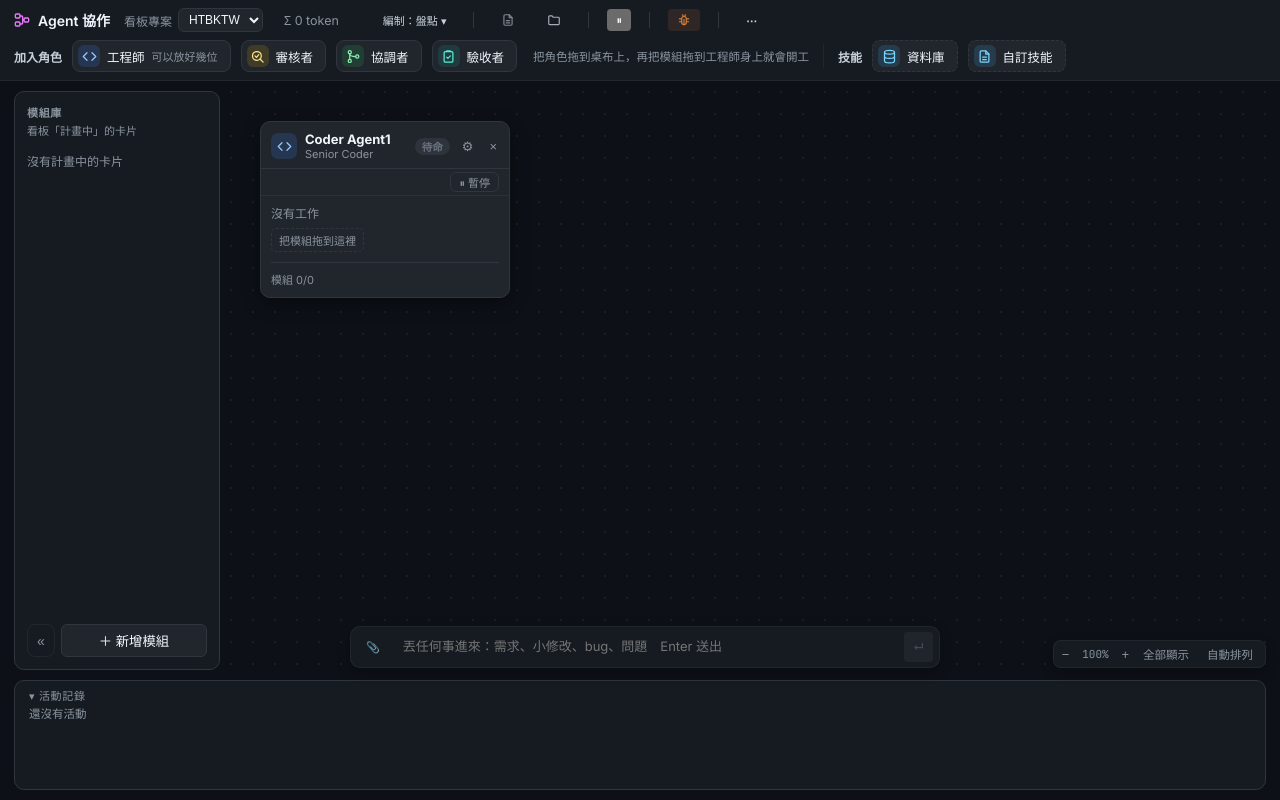
AgentCanvasView › 參考資料夾：頂列設定，存檔後資源區出現資料夾（全員唯讀）
Expected: the element with test id "agent-a1" is shown, [260,121,510,298]
Click the button with test id "ac-references" at (554, 20), box [538,9,570,31]
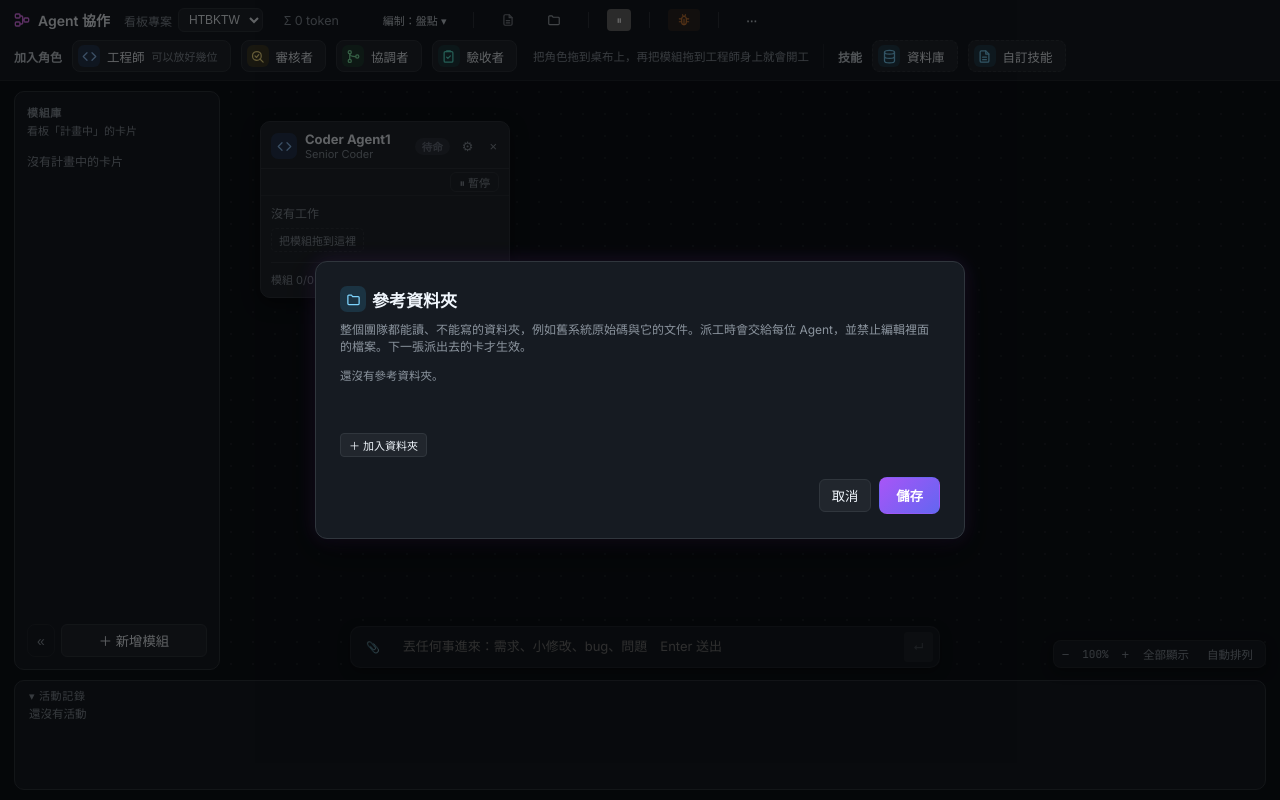
Click the button "＋ 加入資料夾" at (384, 445), box [340,433,427,457]
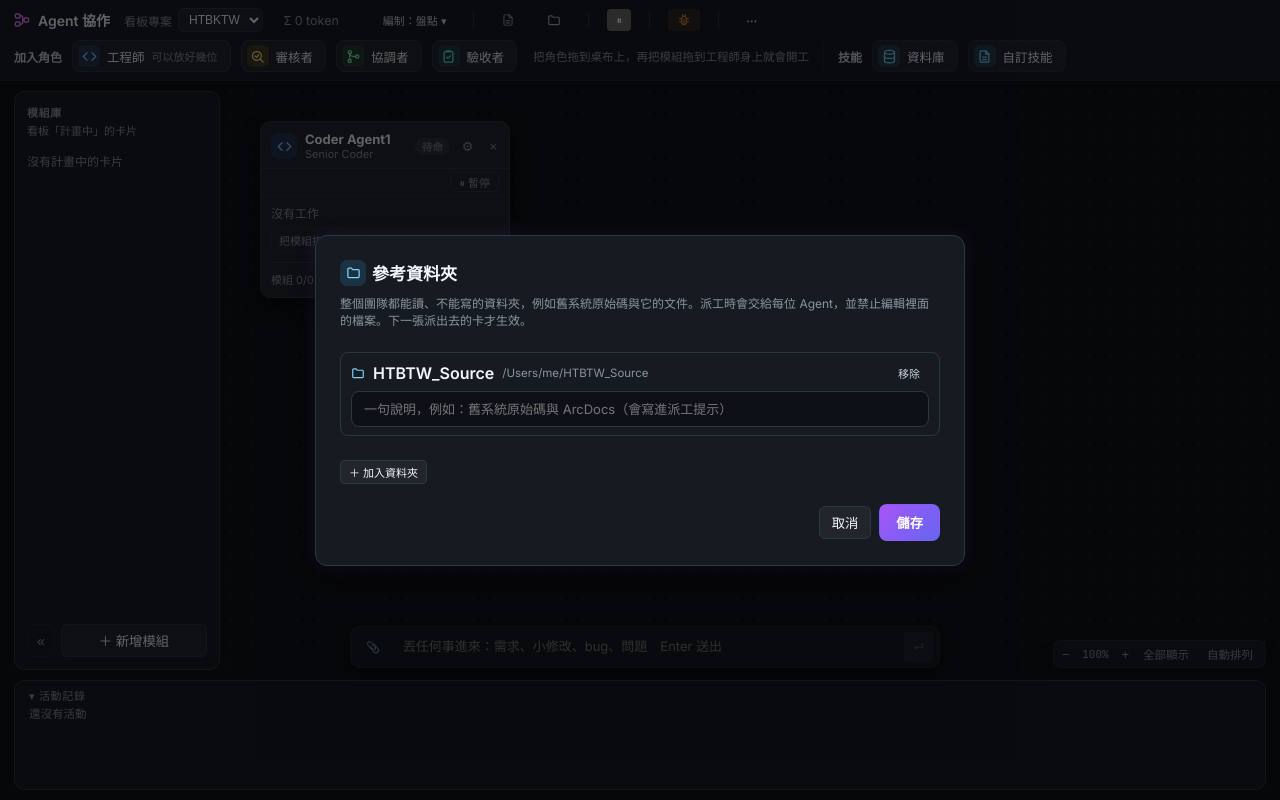
Type "舊系統原始碼與 ArcDocs" into the field named "HTBTW_Source" at (640, 408), box [351,390,929,426]
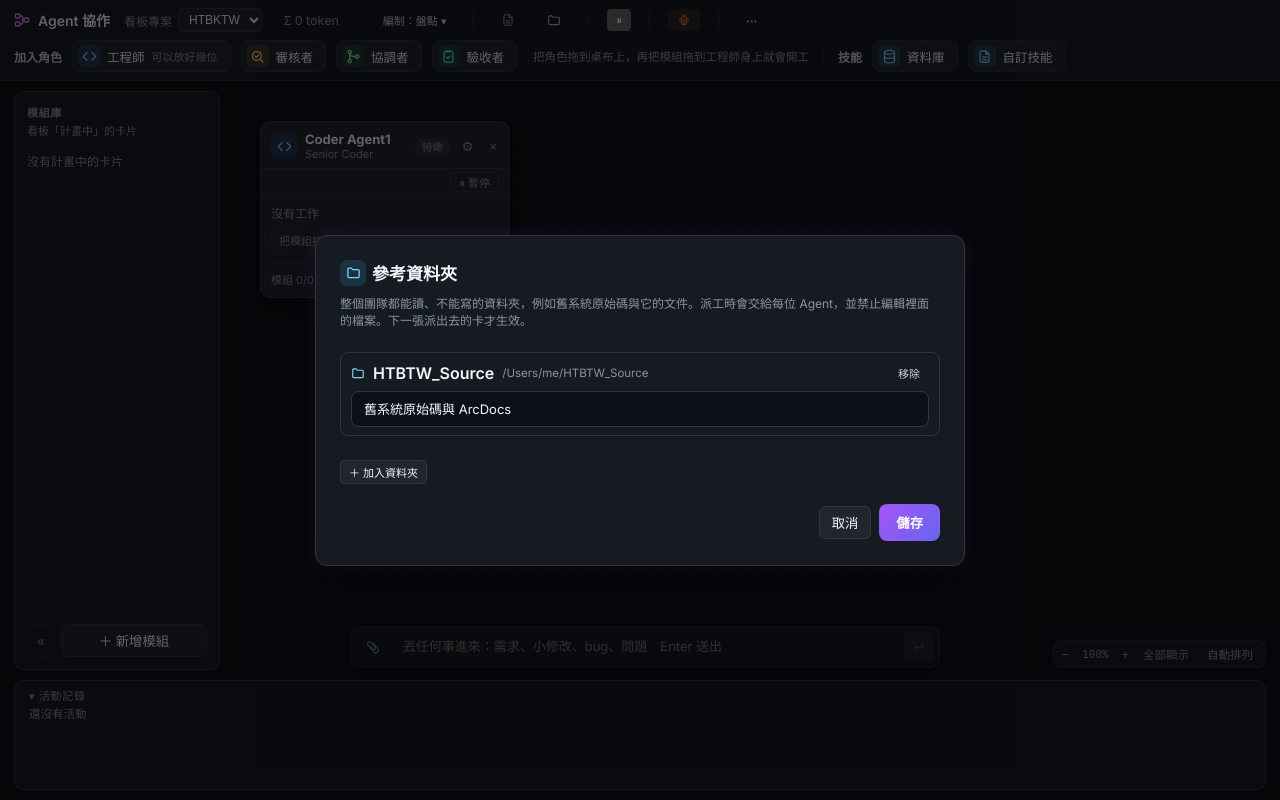
Click the button "儲存" at (910, 522), box [879,504,940,540]
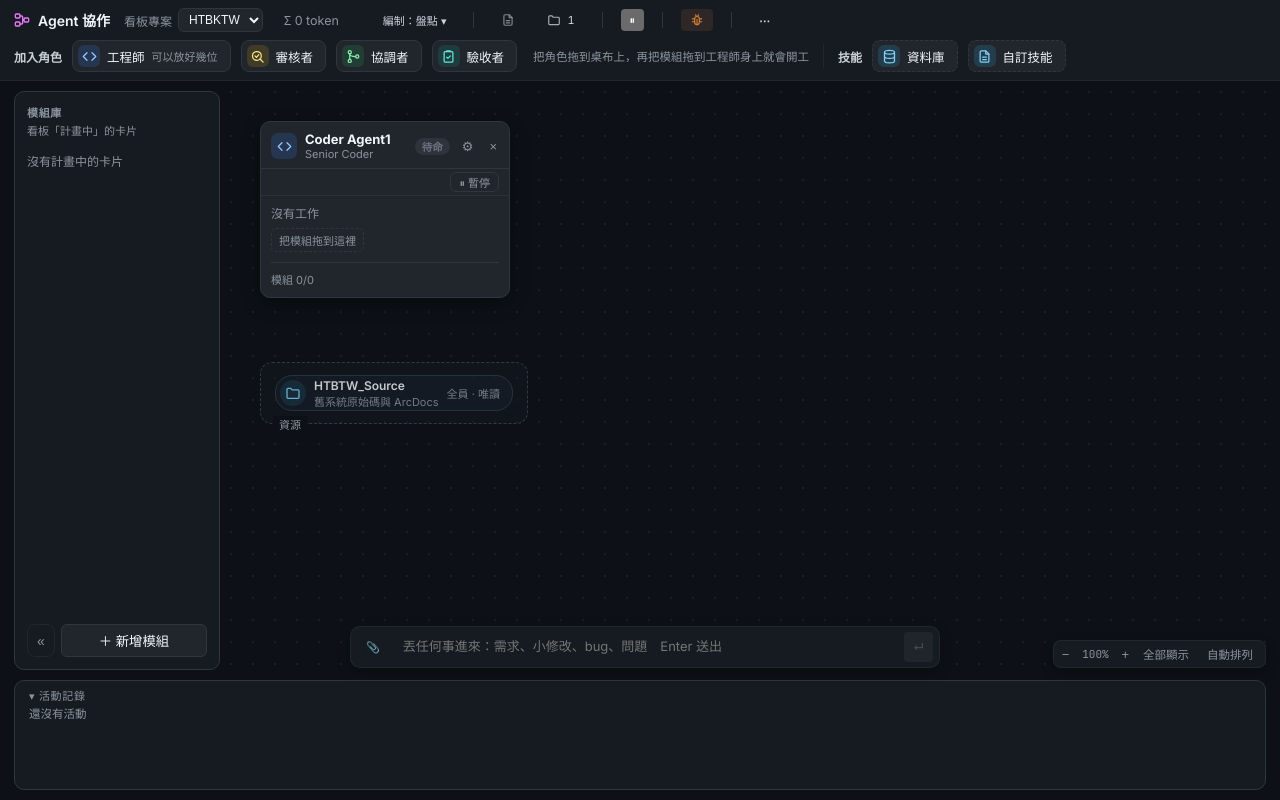
Now the element with test id "resource-ref:/Users/me/HTBTW_Source" shows "HTBTW_Source", box [314,378,405,392]
Now the element with test id "resource-ref:/Users/me/HTBTW_Source" shows "全員 · 唯讀", box [447,387,500,401]
Now the button with test id "ac-references" reads "1", box [538,9,584,31]
